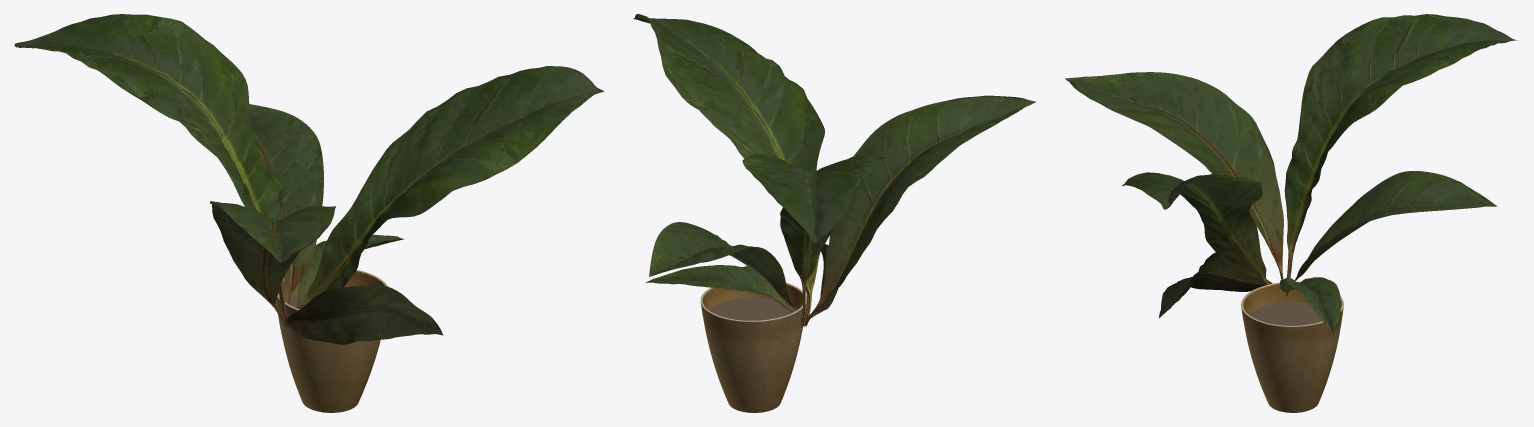
Rendered from ph-anthurium-urn.glb.
3 renders of one model, left to right at view 1: azimuth 30°, elevation 25°; view 2: azimuth 150°, elevation 25°; view 3: azimuth 270°, elevation 25°, orthographic. The views are drawn at different scales.
Parts seen in each view (by area): view 1: anthurium_botany_01_c, Ecoforms_Plant_Container_URN_NAT; view 2: anthurium_botany_01_c, Ecoforms_Plant_Container_URN_NAT, soil; view 3: anthurium_botany_01_c, Ecoforms_Plant_Container_URN_NAT, soil.
Part boxes in pixels (x1,y1,x2,y2): anthurium_botany_01_c: (14,14,604,344); Ecoforms_Plant_Container_URN_NAT: (276,270,387,412); anthurium_botany_01_c: (633,14,1035,326); Ecoforms_Plant_Container_URN_NAT: (700,282,806,412); soil: (709,297,797,320); anthurium_botany_01_c: (1065,14,1518,334); Ecoforms_Plant_Container_URN_NAT: (1241,281,1343,412); soil: (1249,302,1322,325).
Bounding box in the file's own units: 0.6009 × 0.4886 × 0.6574.
Materials: 3 (2 with a texture image).
